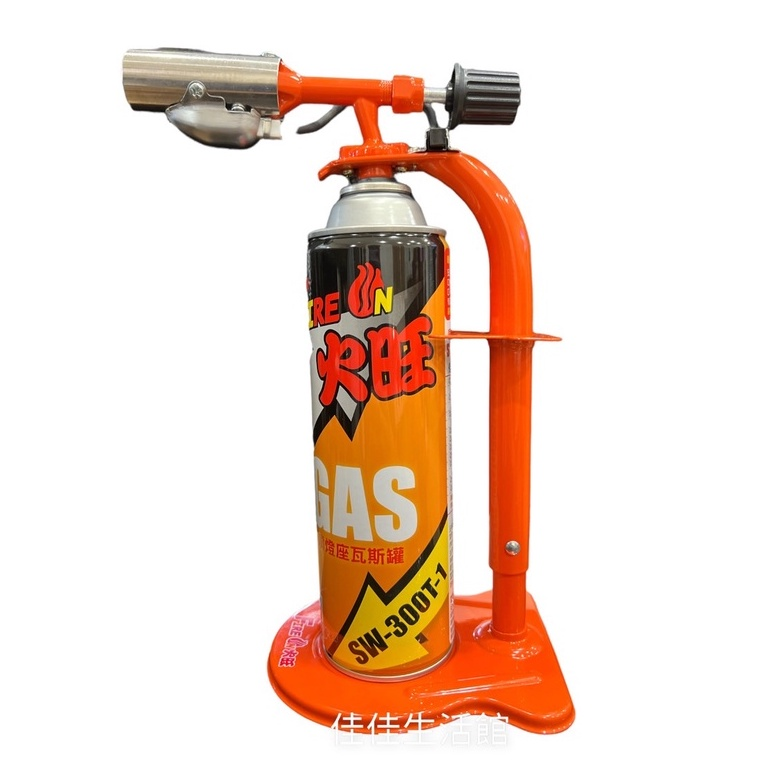gastorch: (116, 41, 581, 739)
